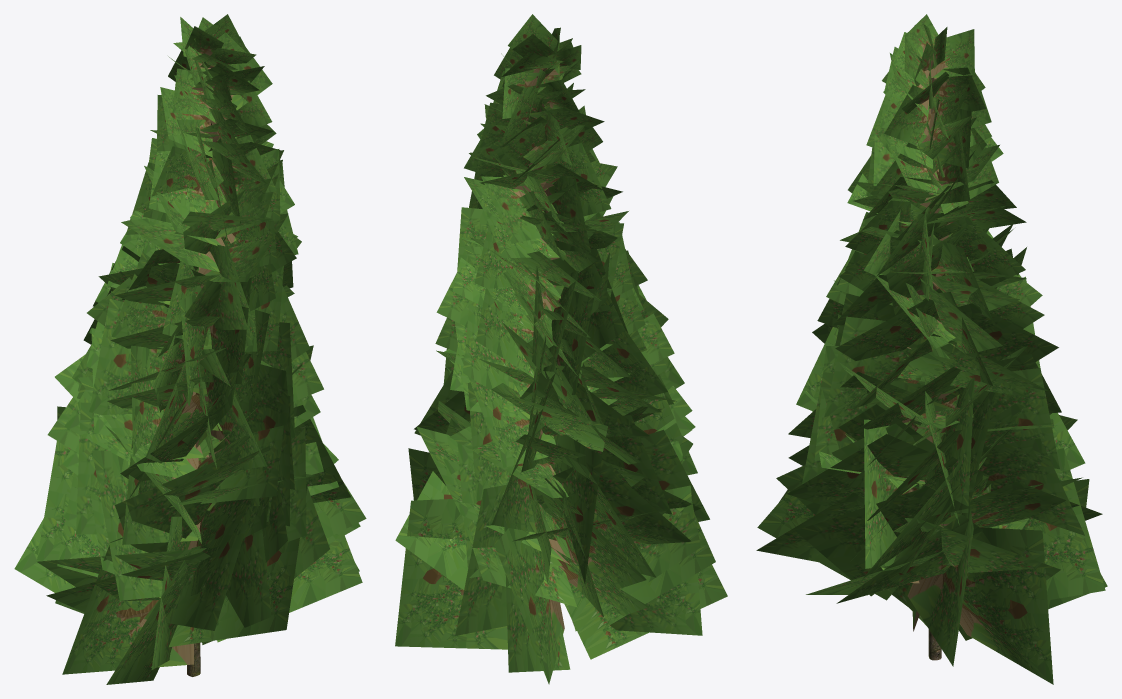
The model's file is low_poly_tree_three.glb.
3 views of the same model, side by side, from view 1: azimuth 30°, elevation 25°; view 2: azimuth 150°, elevation 25°; view 3: azimuth 270°, elevation 25° (orthographic). The views are drawn at different scales.
Parts seen in each view (by area): view 1: Tree-2_2; view 2: Tree-2_2; view 3: Tree-2_2.
Part boxes in pixels (x1,y1,x2,y2): Tree-2_2: [14, 14, 366, 684]; Tree-2_2: [395, 14, 727, 684]; Tree-2_2: [756, 14, 1107, 684].
Bounding box in the file's own units: 0.7955 × 1.68 × 0.8277.
2 materials, 2 textured.
